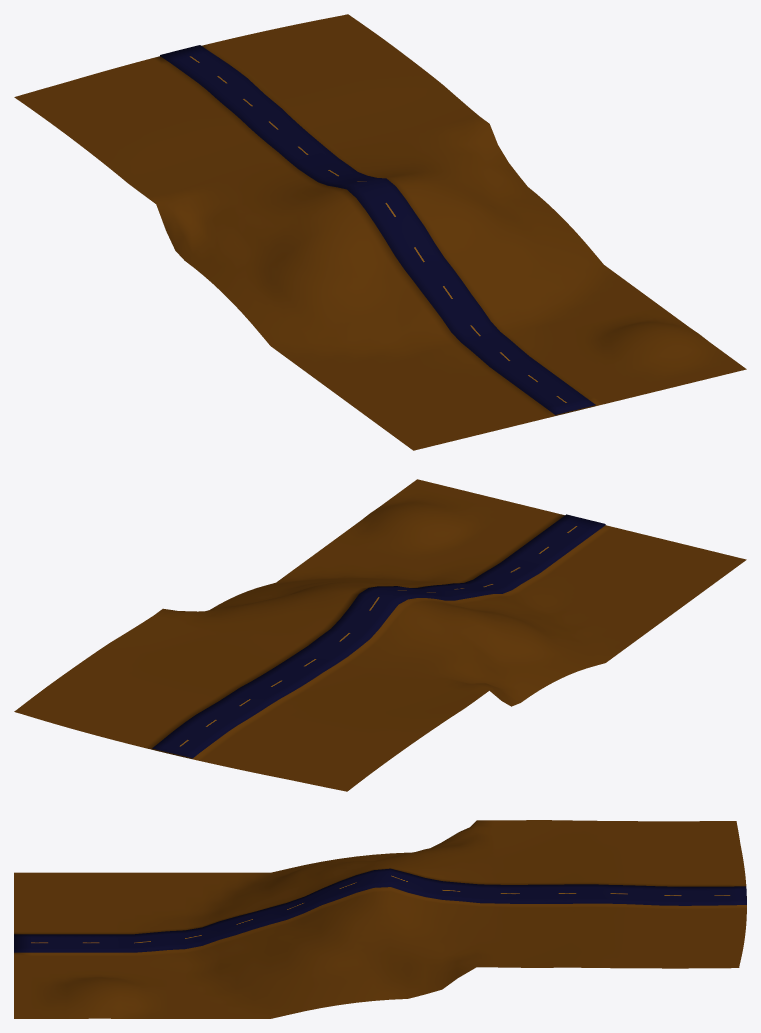
The model's file is Landscape_2.fbx.
3 views of the same model, one above another, from view 1: azimuth 30°, elevation 25°; view 2: azimuth 150°, elevation 25°; view 3: azimuth 270°, elevation 25° (orthographic). The views are drawn at different scales.
Parts seen in each view (by area): view 1: Плоскость; view 2: Плоскость; view 3: Плоскость.
Part boxes in pixels (x1,y1,x2,y2): Плоскость: [14, 14, 746, 450]; Плоскость: [14, 479, 746, 791]; Плоскость: [14, 820, 746, 1018].
Bounding box in the file's own units: 5186 × 1109 × 10802.
